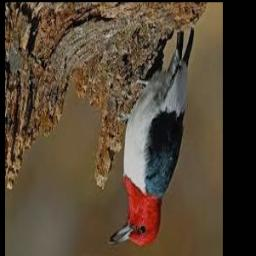Woodpecker: (110, 27, 195, 247)
